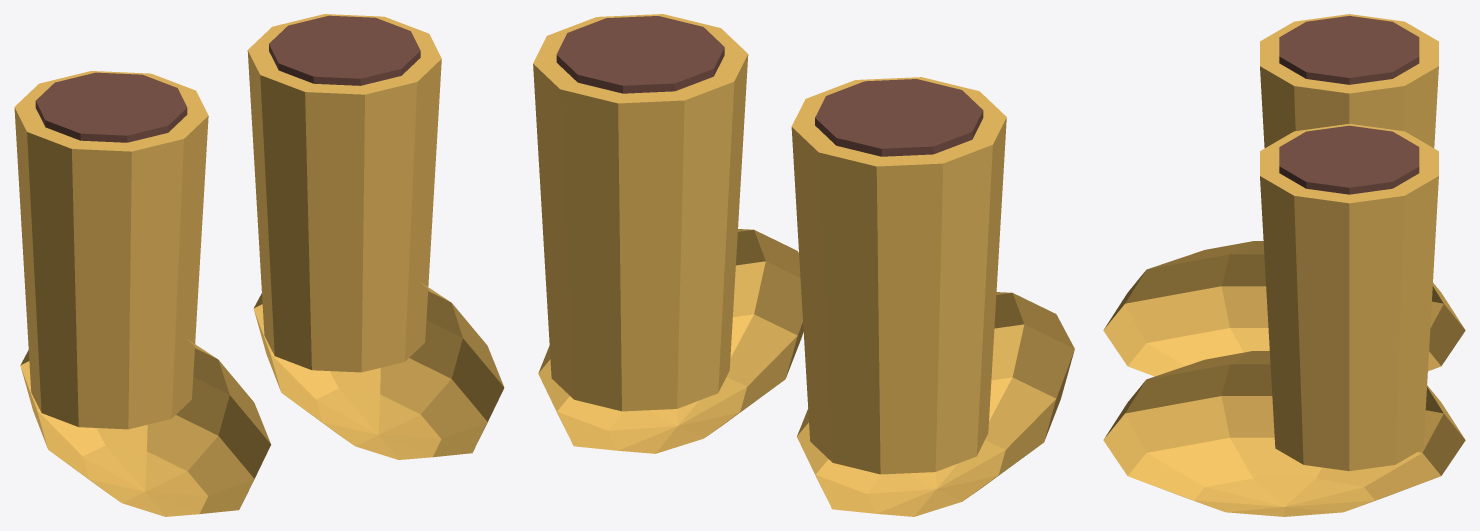
The model's file is turning-seasons-rain-boots-1fdbb934__2115.glb.
3 views of the same model, side by side, from view 1: azimuth 30°, elevation 25°; view 2: azimuth 150°, elevation 25°; view 3: azimuth 270°, elevation 25° (orthographic). The views are drawn at different scales.
Visible parts, largest first — view 1: rain-boots; view 2: rain-boots; view 3: rain-boots.
Boxes of the visible parts, x1,y1,x2,y2 form: rain-boots: [14, 14, 504, 516]; rain-boots: [533, 14, 1074, 516]; rain-boots: [1103, 14, 1465, 516].
Bounding box in the file's own units: 0.414 × 0.357 × 0.3348.
